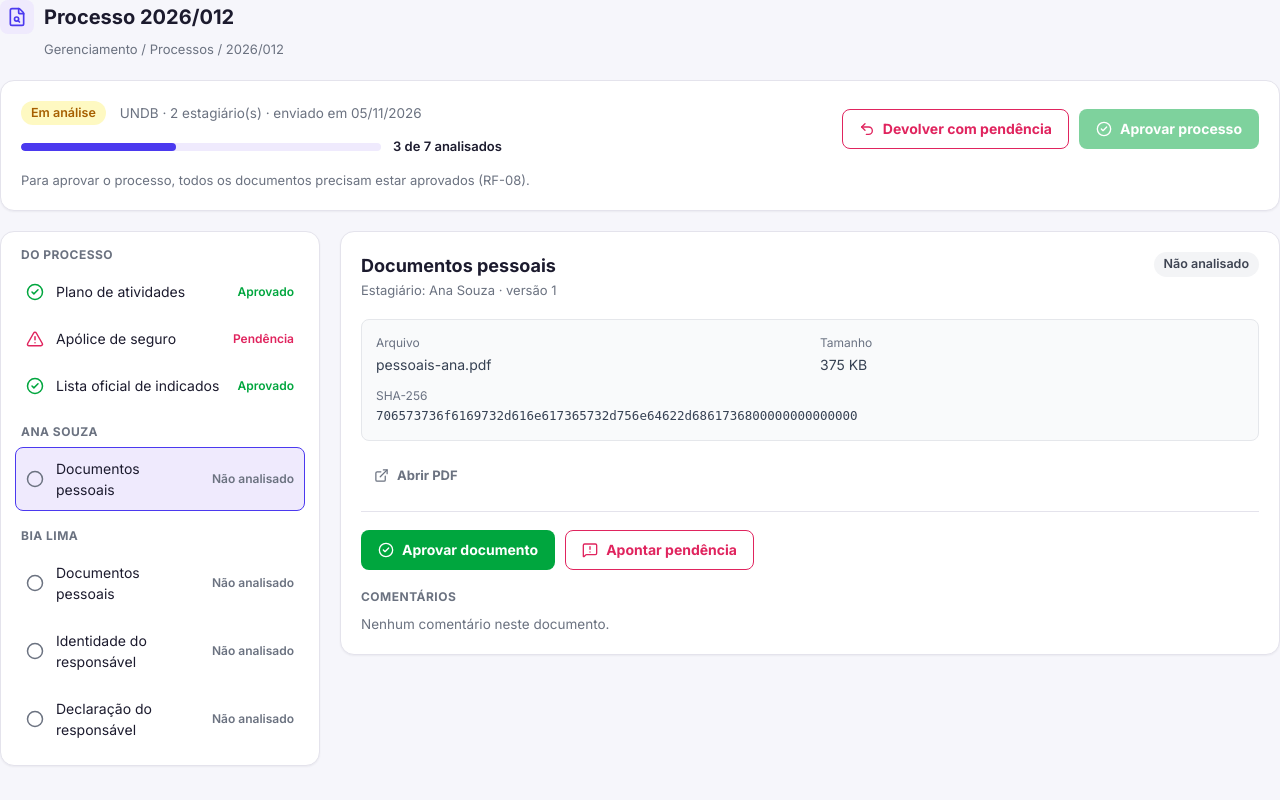
Test: AnaliseProcesso › registra pendência comentada e mostra o comentário no documento
Expected: the heading "Processo 2026/012" is shown, [44,2,234,32]
Click the button with aria-label "Ana Souza". click: (98, 469)
box: [15,447,305,511]
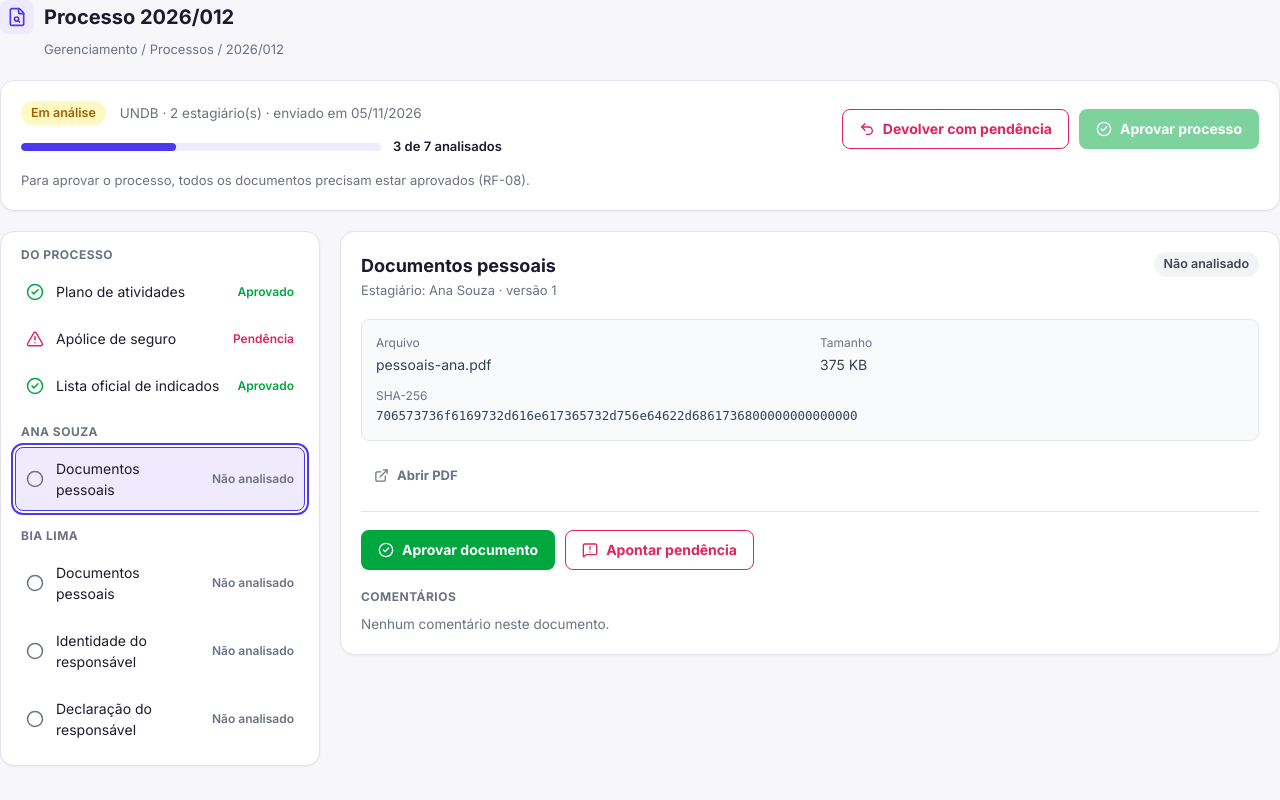
Click the button "Apontar pendência". click: (660, 550)
box: [565,530,754,570]
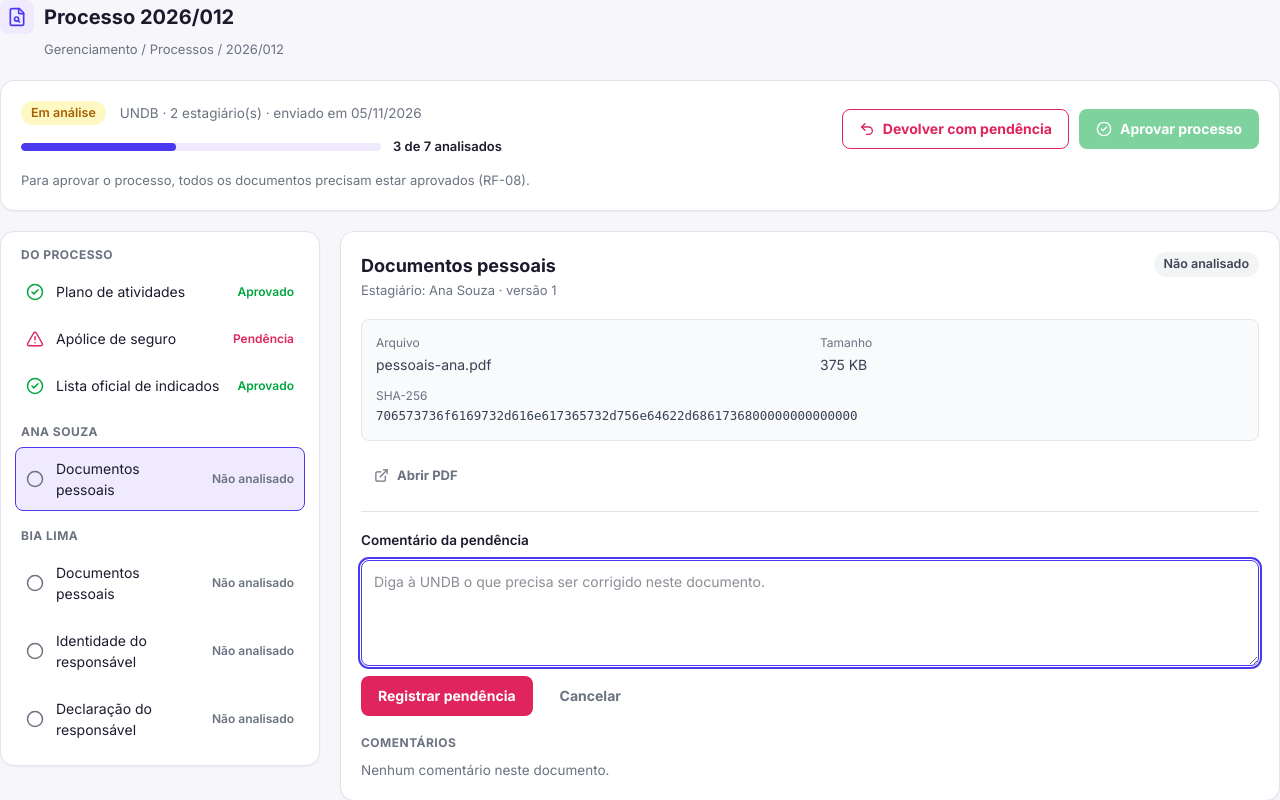
Type "CPF ilegível" into the text box labelled "Comentário da pendência". click: (810, 613)
box: [361,560,1259,666]
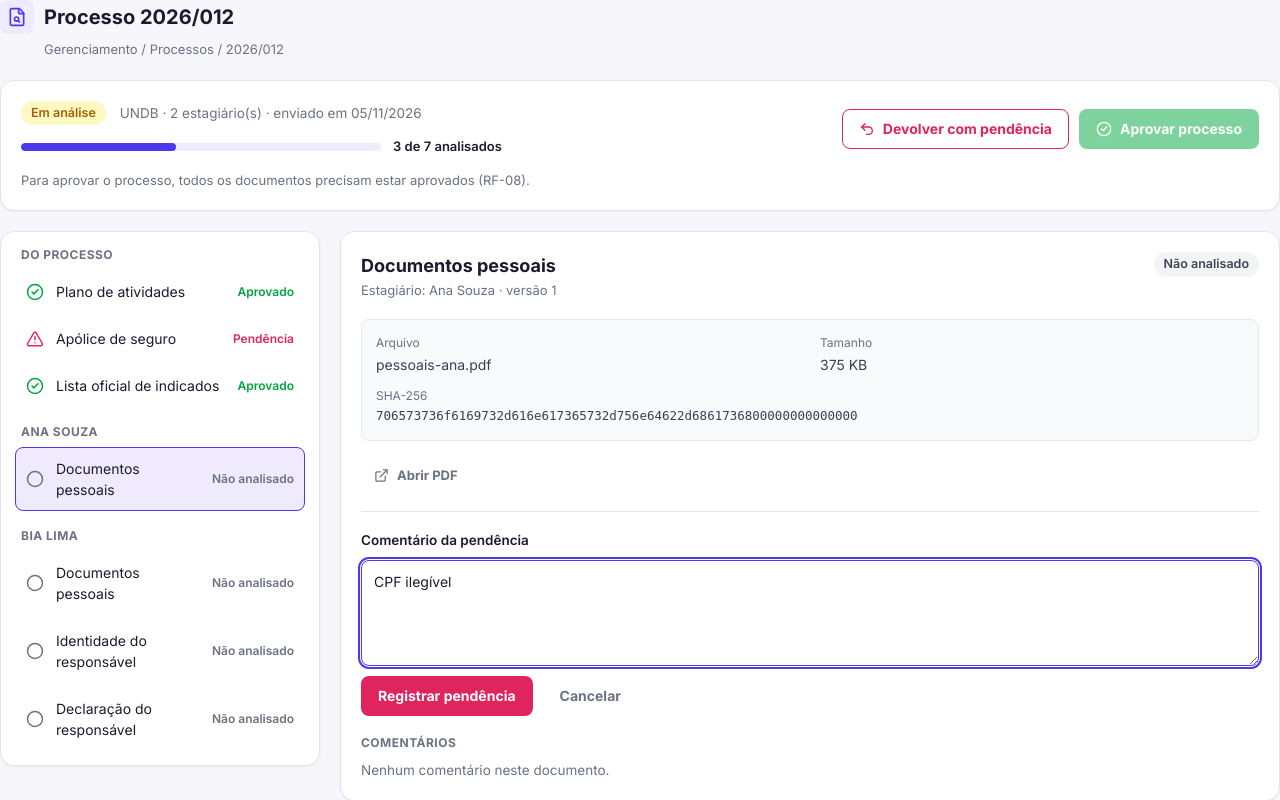
Click the button "Registrar pendência". click: (447, 696)
box: [361,676,533,716]
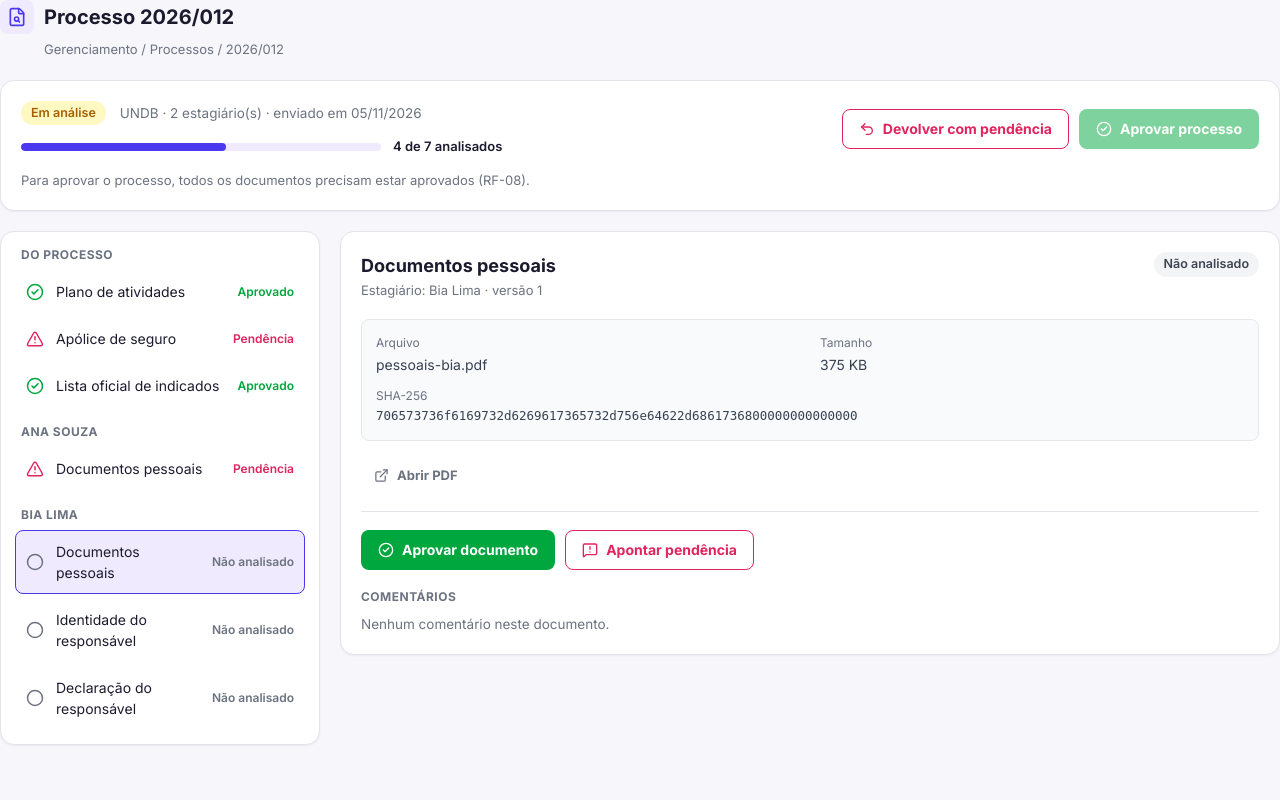
Expected: the text "4 de 7 analisados" is shown, [393,137,502,157]
Click the button with aria-label "Ana Souza". click: (160, 469)
box: [15,447,305,490]
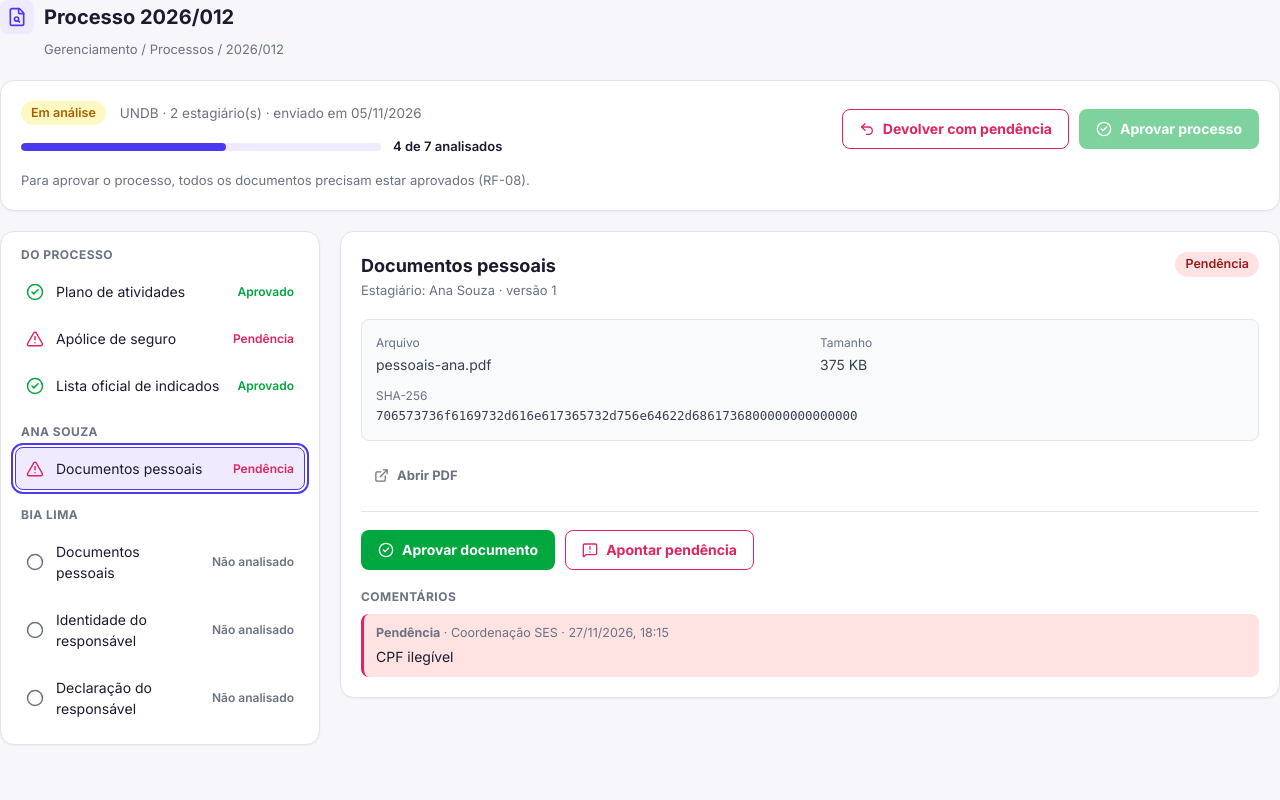
Expected: the text "CPF ilegível" is shown, [376,648,453,665]
